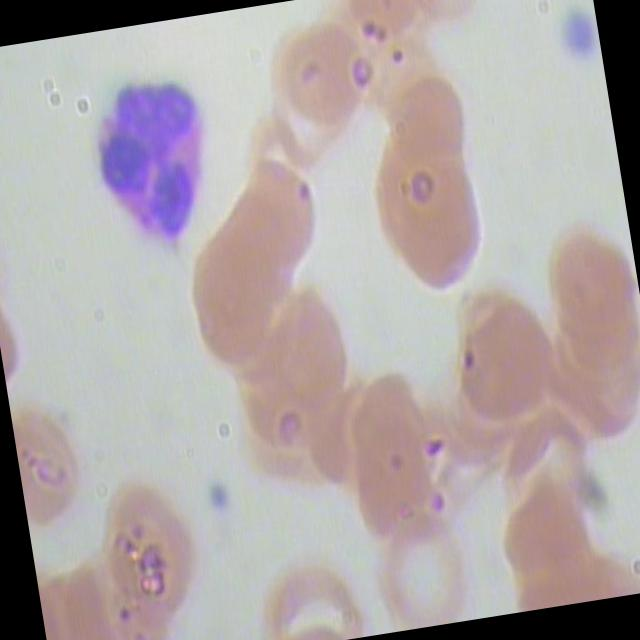Platelets: (552, 8, 601, 68), (196, 474, 238, 526)
RBC: (86, 465, 212, 629), (437, 269, 562, 427), (337, 366, 458, 516), (376, 154, 499, 300), (253, 10, 374, 158), (364, 77, 487, 222), (247, 284, 370, 429), (523, 209, 640, 354), (363, 504, 485, 634), (480, 476, 600, 606), (9, 390, 107, 534)
WBC: (51, 55, 242, 264)
